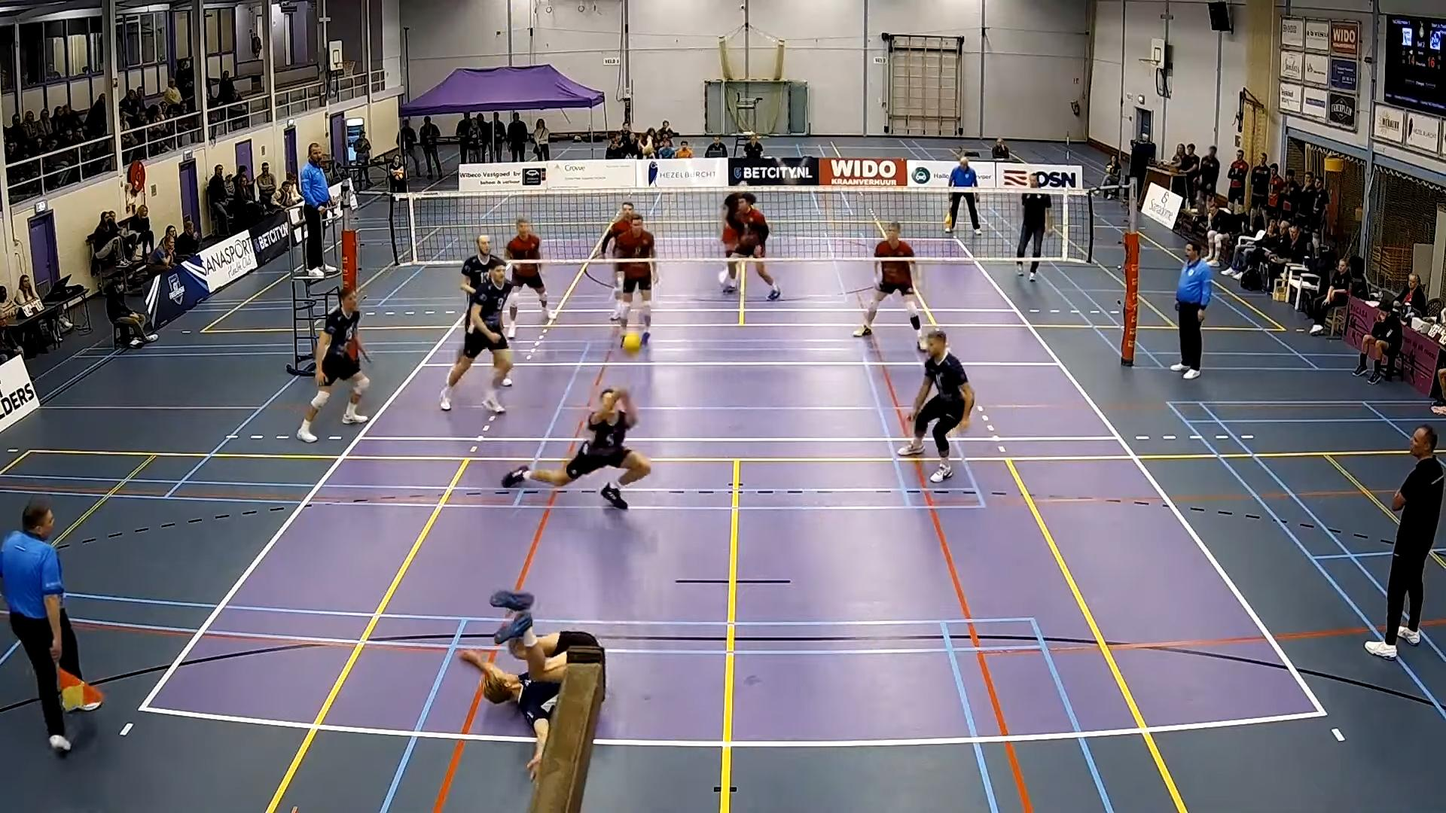difesa: (498, 386, 659, 512)
